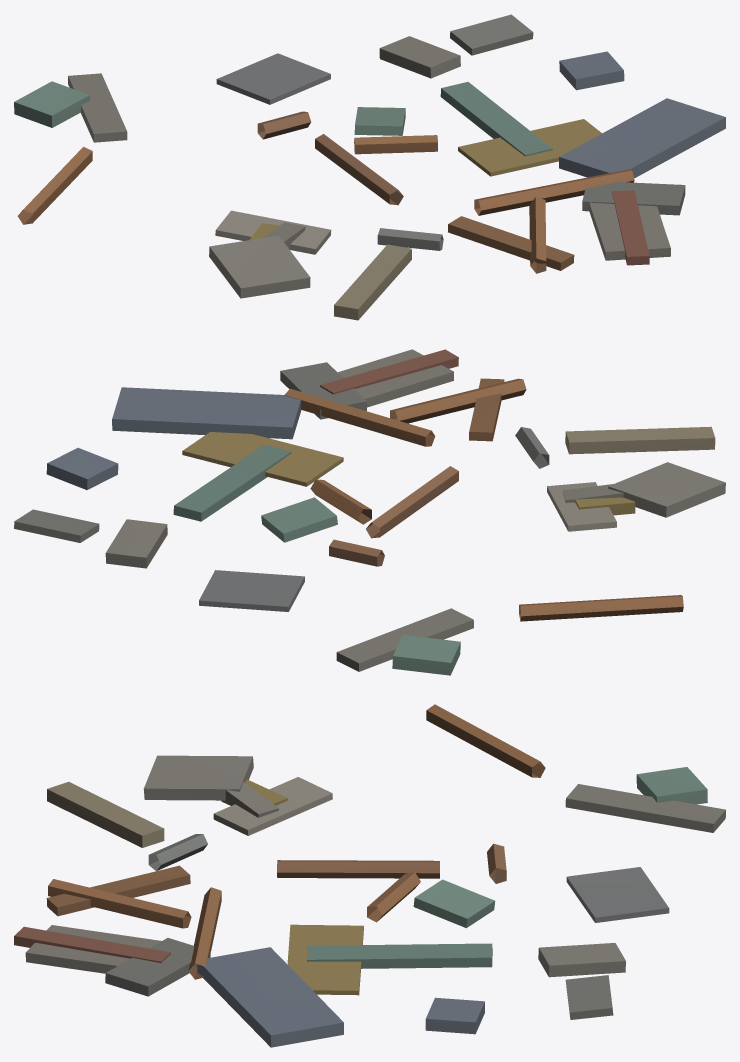
File: debris.glb
The picture shows the model from 3 angles, top to bottom: view 1: azimuth 30°, elevation 25°; view 2: azimuth 150°, elevation 25°; view 3: azimuth 270°, elevation 25°; orthographic projection. The views are drawn at different scales.
Visible parts, largest first — view 1: debris; view 2: debris; view 3: debris.
Part boxes in pixels (x1,y1,x2,y2): debris: (14,14,725,320); debris: (14,349,725,675); debris: (14,704,725,1047).
Bounding box in the file's own units: 5.69 × 0.1697 × 5.22.
